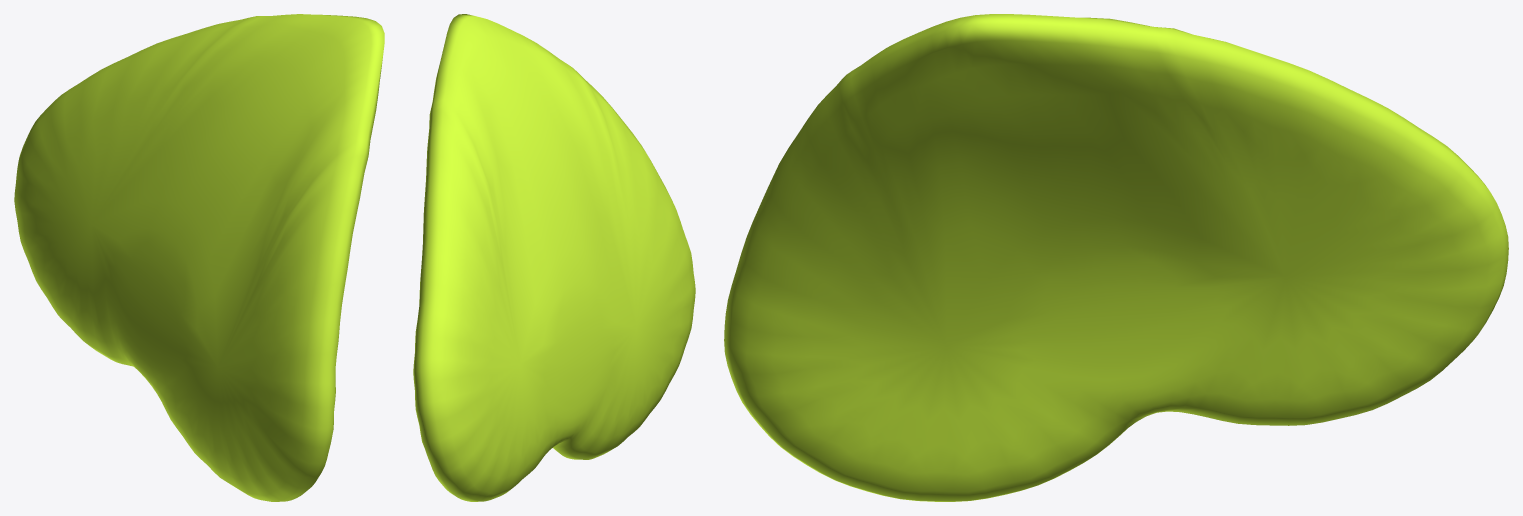
The model's file is treetrunksorejaizq.obj.
The picture shows the model from 3 angles, left to right: view 1: azimuth 30°, elevation 25°; view 2: azimuth 150°, elevation 25°; view 3: azimuth 270°, elevation 25°; orthographic projection. The views are drawn at different scales.
Visible parts, largest first — view 1: TtOrejaIzq; view 2: TtOrejaIzq; view 3: TtOrejaIzq.
Part boxes in pixels (left/top/right/bottom): TtOrejaIzq: left=14, top=14, right=384, bottom=501; TtOrejaIzq: left=413, top=14, right=695, bottom=501; TtOrejaIzq: left=724, top=14, right=1508, bottom=501.
Bounding box in the file's own units: 0.6113 × 1.31 × 1.62.
